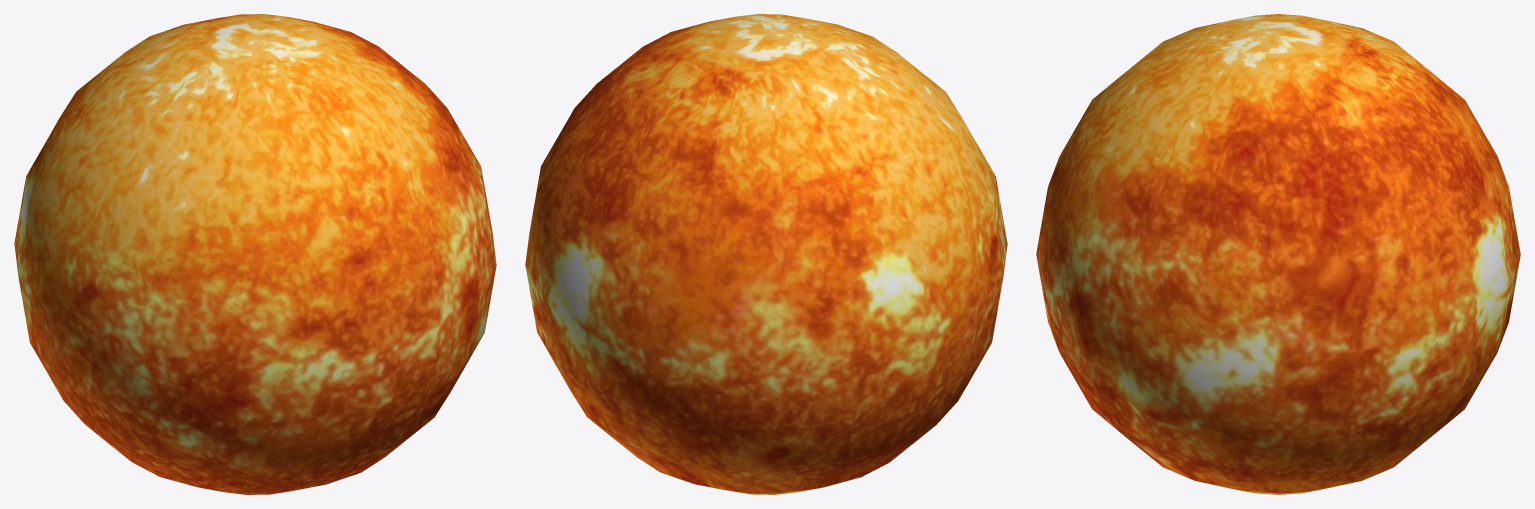
File: sun_ring.glb
The picture shows the model from 3 angles, left to right: view 1: azimuth 30°, elevation 25°; view 2: azimuth 150°, elevation 25°; view 3: azimuth 270°, elevation 25°; orthographic projection.
Parts seen in each view (by area): view 1: Sun; view 2: Sun; view 3: Sun.
Part boxes in pixels (x1,y1,x2,y2): Sun: (14,14,496,494); Sun: (525,14,1007,494); Sun: (1036,14,1520,494).
Size of what is drawn, in the model's own units: 1.96 by 1.96 by 1.96.
1 material, 1 textured.
